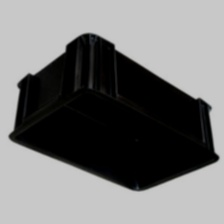plastic_box: (3, 26, 224, 199)
